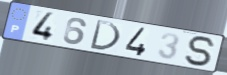3: (157, 32, 183, 62)
4: (29, 11, 57, 44), (124, 27, 148, 57)
6: (62, 17, 89, 46)
D: (88, 19, 122, 53)
S: (184, 35, 219, 68)
